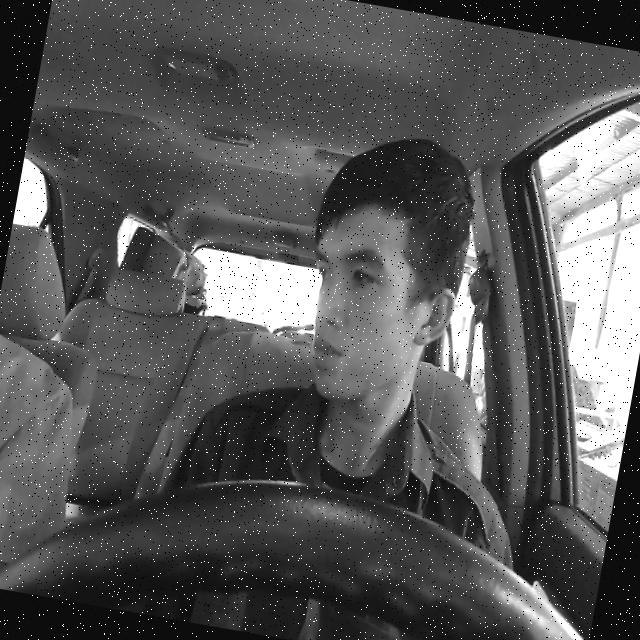seeing_left: (288, 189, 472, 418)
